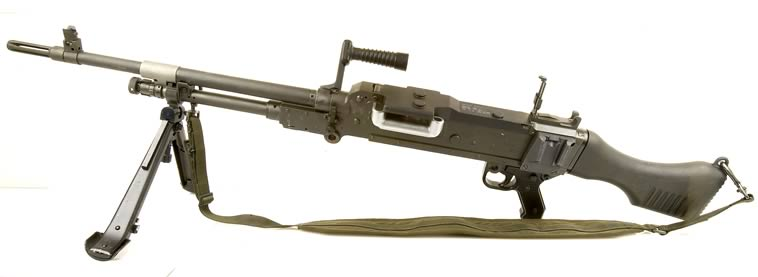rifle: (4, 12, 753, 256)
